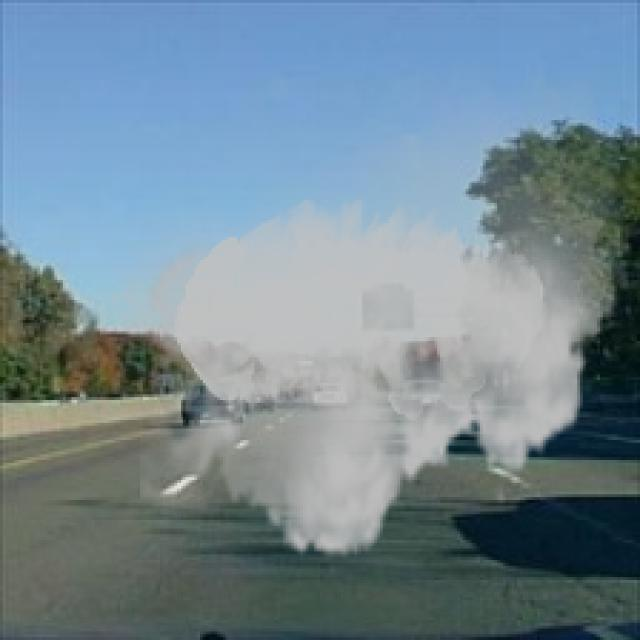Smoke: (106, 49, 628, 578)
